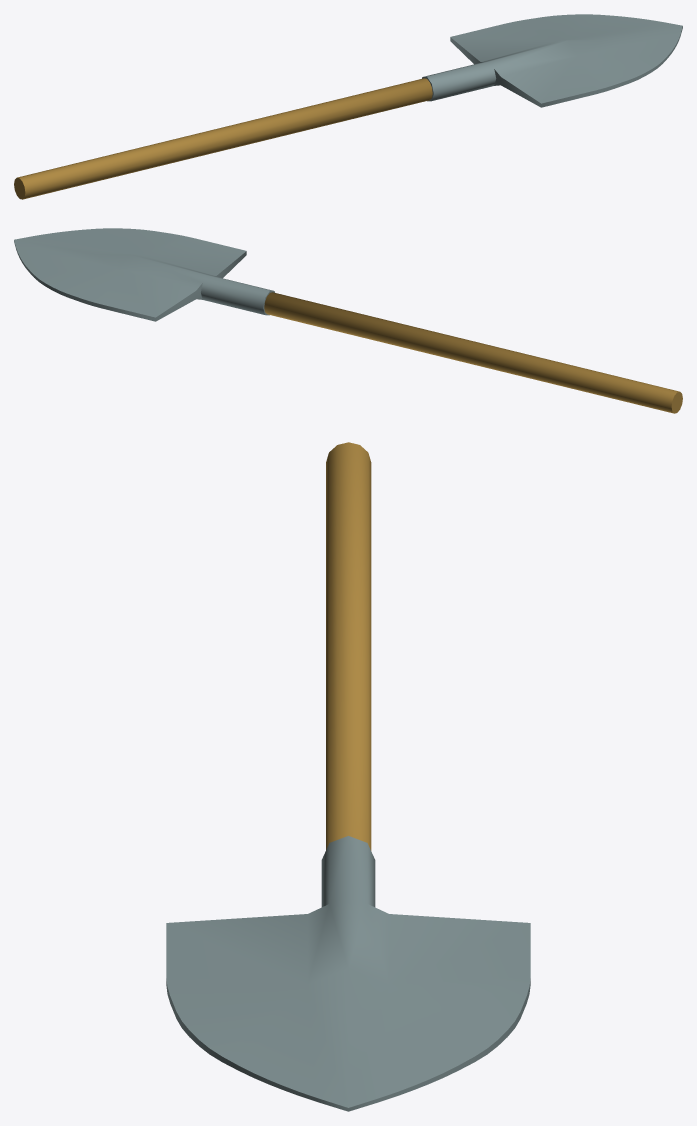
File: Shovel 01.fbx
3 views of the same model, one above another, from view 1: azimuth 30°, elevation 25°; view 2: azimuth 150°, elevation 25°; view 3: azimuth 270°, elevation 25° (orthographic). The views are drawn at different scales.
Parts seen in each view (by area): view 1: Shovel 01; view 2: Shovel 01; view 3: Shovel 01.
Boxes of the visible parts, x1,y1,x2,y2 form: Shovel 01: (14, 14, 682, 199); Shovel 01: (14, 228, 682, 413); Shovel 01: (166, 442, 530, 1111).
Bounding box in the file's own units: 2.65 × 0.1137 × 0.6305.
